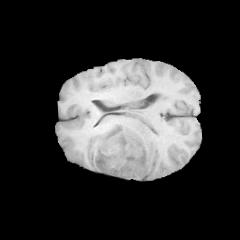glioma: (87, 124, 151, 179)
